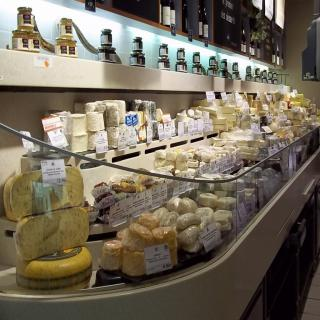Cheese: (3, 90, 320, 296)
